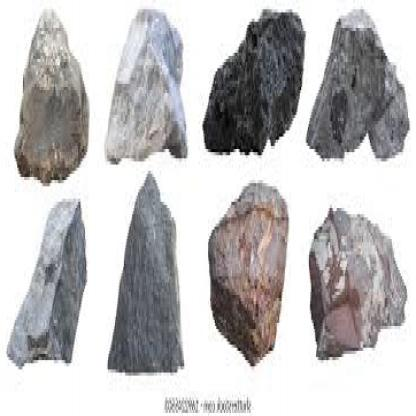Sedimentary_Chalk: (98, 10, 192, 164)
